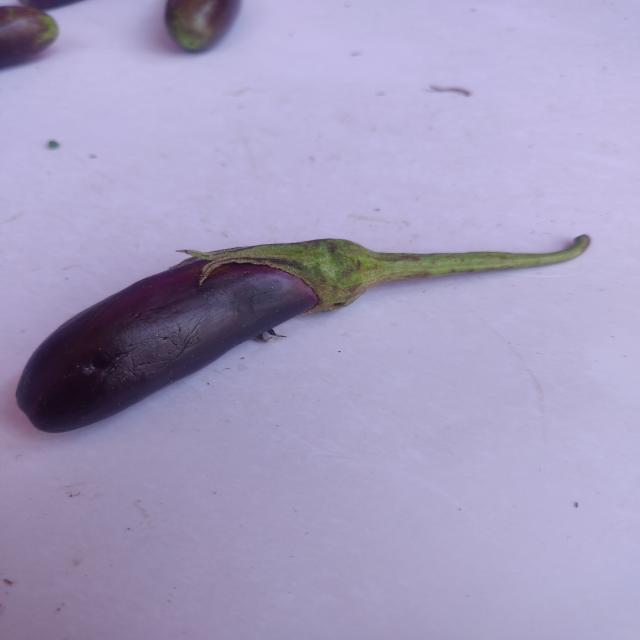Brinjal: (8, 224, 631, 438)
